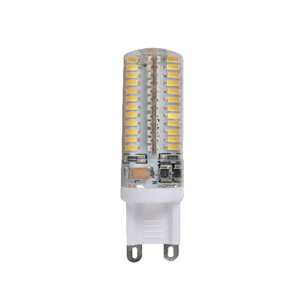Light_bulb: (102, 43, 204, 271)
